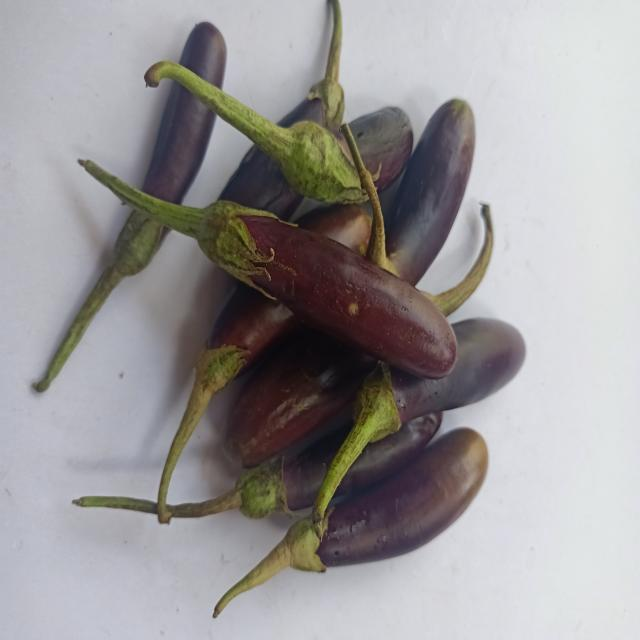Brinjal: (79, 160, 457, 378), (213, 428, 488, 607), (311, 320, 524, 521), (32, 209, 167, 392), (172, 425, 352, 523), (335, 411, 443, 496), (142, 81, 215, 203), (180, 21, 226, 85)
